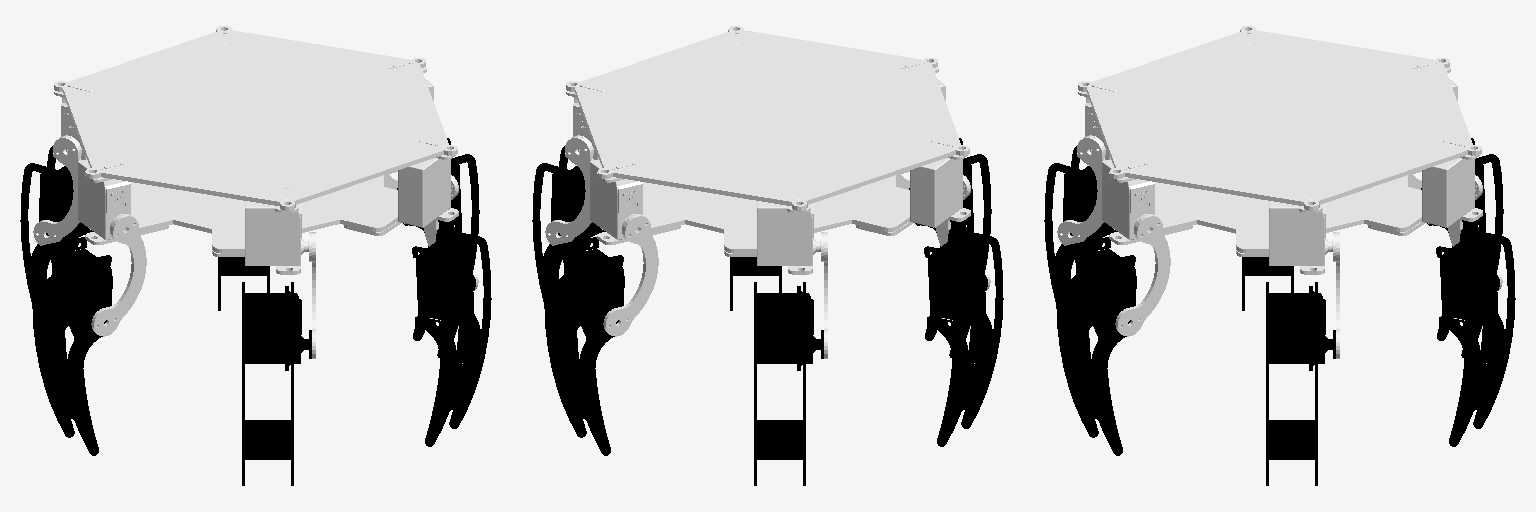
The robot description file, URDF, robot "hexa_wexa":
<?xml version="1.0" encoding="utf-8"?>
<!-- This URDF was automatically created by SolidWorks to URDF Exporter! Originally created by [author] ([email redacted])
     Commit Version: 1.6.0-1-g15f4949  Build Version: 1.6.7594.29634
     For more information, please see http://wiki.ros.org/sw_urdf_exporter -->
<robot
  name="hexa_wexa">
  <link
    name="base_link">
    <inertial>
      <origin
        xyz="-1.11022302462516E-16 8.32667268468867E-16 0.0329215154523213"
        rpy="0 0 0" />
      <mass
        value="2.06099139407896" />
      <inertia
        ixx="0.0101180981973123"
        ixy="-1.4361818168078E-15"
        ixz="1.13727748333106E-19"
        iyy="0.0101180981974174"
        iyz="5.28927273539273E-19"
        izz="0.0197053897177076" />
    </inertial>
    <visual>
      <origin
        xyz="0 0 0"
        rpy="0 0 0" />
      <geometry>
        <mesh
          filename="package://hexa_wexa/meshes/base_link.STL" />
      </geometry>
      <material
        name="">
        <color
          rgba="1 1 1 1" />
      </material>
    </visual>
    <collision>
      <origin
        xyz="0 0 0"
        rpy="0 0 0" />
      <geometry>
        <mesh
          filename="package://hexa_wexa/meshes/base_link.STL" />
      </geometry>
    </collision>
  </link>
  <link
    name="link_1">
    <inertial>
      <origin
        xyz="0 -0.000390541423954061 -0.0520431996238184"
        rpy="0 0 0" />
      <mass
        value="0.0161867713531685" />
      <inertia
        ixx="2.90017231403271E-05"
        ixy="6.7762635780344E-21"
        ixz="-8.50537169564026E-21"
        iyy="2.51034835558057E-05"
        iyz="-5.13859201514917E-06"
        izz="3.96568446515958E-06" />
    </inertial>
    <visual>
      <origin
        xyz="0 0 0"
        rpy="0 0 0" />
      <geometry>
        <mesh
          filename="package://hexa_wexa/meshes/link_1.STL" />
      </geometry>
      <material
        name="">
        <color
          rgba="1 1 1 1" />
      </material>
    </visual>
    <collision>
      <origin
        xyz="0 0 0"
        rpy="0 0 0" />
      <geometry>
        <mesh
          filename="package://hexa_wexa/meshes/link_1.STL" />
      </geometry>
    </collision>
  </link>
  <joint
    name="femur1"
    type="revolute">
    <origin
      xyz="0.14515 -0.13347 0.01"
      rpy="0 0 0.5236" />
    <parent
      link="base_link" />
    <child
      link="link_1" />
    <axis
      xyz="1 0 0" />
    <limit
      lower="-1.5708"
      upper="1.5708"
      effort="100"
      velocity="50" />
  </joint>
  <link
    name="link_1.1">
    <inertial>
      <origin
        xyz="-0.0426285870362159 -0.00501916657630452 -0.00729447440820258"
        rpy="0 0 0" />
      <mass
        value="0.172077268178404" />
      <inertia
        ixx="0.000231425971647549"
        ixy="-4.49143962276963E-10"
        ixz="1.89213210170286E-06"
        iyy="0.000275463997514187"
        iyz="1.27642229960103E-05"
        izz="7.5723265385277E-05" />
    </inertial>
    <visual>
      <origin
        xyz="0 0 0"
        rpy="0 0 0" />
      <geometry>
        <mesh
          filename="package://hexa_wexa/meshes/link_1.1.STL" />
      </geometry>
      <material
        name="">
        <color
          rgba="0 0 0 1" />
      </material>
    </visual>
    <collision>
      <origin
        xyz="0 0 0"
        rpy="0 0 0" />
      <geometry>
        <mesh
          filename="package://hexa_wexa/meshes/link_1.1.STL" />
      </geometry>
    </collision>
  </link>
  <joint
    name="leg1"
    type="revolute">
    <origin
      xyz="0 -0.02283 -0.099002"
      rpy="-0.046051 0 0" />
    <parent
      link="link_1" />
    <child
      link="link_1.1" />
    <axis
      xyz="1 0 0" />
    <limit
      lower="-1.5708"
      upper="1.5708"
      effort="100"
      velocity="50" />
  </joint>
  <link
    name="link_2">
    <inertial>
      <origin
        xyz="-8.32667268468867E-17 -0.000390541423954061 -0.0520431996238183"
        rpy="0 0 0" />
      <mass
        value="0.0161867713531686" />
      <inertia
        ixx="2.90017231403271E-05"
        ixy="1.85801300952691E-20"
        ixz="2.02679642762048E-21"
        iyy="2.51034835558058E-05"
        iyz="-5.13859201514918E-06"
        izz="3.9656844651596E-06" />
    </inertial>
    <visual>
      <origin
        xyz="0 0 0"
        rpy="0 0 0" />
      <geometry>
        <mesh
          filename="package://hexa_wexa/meshes/link_2.STL" />
      </geometry>
      <material
        name="">
        <color
          rgba="1 1 1 1" />
      </material>
    </visual>
    <collision>
      <origin
        xyz="0 0 0"
        rpy="0 0 0" />
      <geometry>
        <mesh
          filename="package://hexa_wexa/meshes/link_2.STL" />
      </geometry>
    </collision>
  </link>
  <joint
    name="femur2"
    type="revolute">
    <origin
      xyz="0.18816 0.05897 0.01"
      rpy="0 0 1.5708" />
    <parent
      link="base_link" />
    <child
      link="link_2" />
    <axis
      xyz="1 0 0" />
    <limit
      lower="-1.5708"
      upper="1.5708"
      effort="100"
      velocity="50" />
  </joint>
  <link
    name="link_2.2">
    <inertial>
      <origin
        xyz="-0.0426285870058558 -0.00501916661698198 -0.00729447436625907"
        rpy="0 0 0" />
      <mass
        value="0.172077268568037" />
      <inertia
        ixx="0.000231425083797164"
        ixy="-4.48969659915652E-10"
        ixz="1.89213220657379E-06"
        iyy="0.000275463082426943"
        iyz="1.27642153499068E-05"
        izz="7.57233043712846E-05" />
    </inertial>
    <visual>
      <origin
        xyz="0 0 0"
        rpy="0 0 0" />
      <geometry>
        <mesh
          filename="package://hexa_wexa/meshes/link_2.2.STL" />
      </geometry>
      <material
        name="">
        <color
          rgba="0 0 0 1" />
      </material>
    </visual>
    <collision>
      <origin
        xyz="0 0 0"
        rpy="0 0 0" />
      <geometry>
        <mesh
          filename="package://hexa_wexa/meshes/link_2.2.STL" />
      </geometry>
    </collision>
  </link>
  <joint
    name="leg2"
    type="revolute">
    <origin
      xyz="0 -0.02283 -0.099002"
      rpy="-0.046051 0 0" />
    <parent
      link="link_2" />
    <child
      link="link_2.2" />
    <axis
      xyz="1 0 0" />
    <limit
      lower="-1.5708"
      upper="1.5708"
      effort="100"
      velocity="50" />
  </joint>
  <link
    name="link_3">
    <inertial>
      <origin
        xyz="-5.55111512312578E-17 -0.000390541423954074 -0.0520431996238182"
        rpy="0 0 0" />
      <mass
        value="0.0161867713531686" />
      <inertia
        ixx="2.90017231403272E-05"
        ixy="2.79520872593919E-20"
        ixz="1.18265634115863E-20"
        iyy="2.51034835558058E-05"
        iyz="-5.13859201514919E-06"
        izz="3.96568446515959E-06" />
    </inertial>
    <visual>
      <origin
        xyz="0 0 0"
        rpy="0 0 0" />
      <geometry>
        <mesh
          filename="package://hexa_wexa/meshes/link_3.STL" />
      </geometry>
      <material
        name="">
        <color
          rgba="1 1 1 1" />
      </material>
    </visual>
    <collision>
      <origin
        xyz="0 0 0"
        rpy="0 0 0" />
      <geometry>
        <mesh
          filename="package://hexa_wexa/meshes/link_3.STL" />
      </geometry>
    </collision>
  </link>
  <joint
    name="femur3"
    type="revolute">
    <origin
      xyz="0.043011 0.19244 0.01"
      rpy="0 0 2.618" />
    <parent
      link="base_link" />
    <child
      link="link_3" />
    <axis
      xyz="1 0 0" />
    <limit
      lower="-1.5708"
      upper="1.5708"
      effort="100"
      velocity="50" />
  </joint>
  <link
    name="link_3.3">
    <inertial>
      <origin
        xyz="-0.042807342236036 -0.00501916662215592 -0.00615932155635768"
        rpy="0 0 0" />
      <mass
        value="0.172077268091205" />
      <inertia
        ixx="0.00023141657003237"
        ixy="3.38677520311463E-07"
        ixz="-2.24586714486416E-06"
        iyy="0.000275463997357553"
        iyz="1.27597291678561E-05"
        izz="7.57326668898429E-05" />
    </inertial>
    <visual>
      <origin
        xyz="0 0 0"
        rpy="0 0 0" />
      <geometry>
        <mesh
          filename="package://hexa_wexa/meshes/link_3.3.STL" />
      </geometry>
      <material
        name="">
        <color
          rgba="0 0 0 1" />
      </material>
    </visual>
    <collision>
      <origin
        xyz="0 0 0"
        rpy="0 0 0" />
      <geometry>
        <mesh
          filename="package://hexa_wexa/meshes/link_3.3.STL" />
      </geometry>
    </collision>
  </link>
  <joint
    name="leg3"
    type="revolute">
    <origin
      xyz="0 -0.02283 -0.099002"
      rpy="-0.046067 -0.026543 0.0012235" />
    <parent
      link="link_3" />
    <child
      link="link_3.3" />
    <axis
      xyz="1 0 0" />
    <limit
      lower="-1.5708"
      upper="1.5708"
      effort="100"
      velocity="50" />
  </joint>
  <link
    name="link_4">
    <inertial>
      <origin
        xyz="-6.93889390390723E-18 -0.000390541423954116 -0.0520431996238183"
        rpy="0 0 0" />
      <mass
        value="0.0161867713531686" />
      <inertia
        ixx="2.90017231403271E-05"
        ixy="4.74338450462408E-20"
        ixz="6.26552831118306E-20"
        iyy="2.51034835558057E-05"
        iyz="-5.13859201514918E-06"
        izz="3.96568446515959E-06" />
    </inertial>
    <visual>
      <origin
        xyz="0 0 0"
        rpy="0 0 0" />
      <geometry>
        <mesh
          filename="package://hexa_wexa/meshes/link_4.STL" />
      </geometry>
      <material
        name="">
        <color
          rgba="1 1 1 1" />
      </material>
    </visual>
    <collision>
      <origin
        xyz="0 0 0"
        rpy="0 0 0" />
      <geometry>
        <mesh
          filename="package://hexa_wexa/meshes/link_4.STL" />
      </geometry>
    </collision>
  </link>
  <joint
    name="femur4"
    type="revolute">
    <origin
      xyz="-0.14515 0.13347 0.01"
      rpy="0 0 -2.618" />
    <parent
      link="base_link" />
    <child
      link="link_4" />
    <axis
      xyz="1 0 0" />
    <limit
      lower="-1.5708"
      upper="1.5708"
      effort="100"
      velocity="50" />
  </joint>
  <link
    name="link_4.4">
    <inertial>
      <origin
        xyz="-0.0424197356336695 -0.00501916657630445 -0.00842447733487048"
        rpy="0 0 0" />
      <mass
        value="0.172077268178403" />
      <inertia
        ixx="0.000231215556596787"
        ixy="-3.39575333485197E-07"
        ixz="6.02478897876616E-06"
        iyy="0.000275463997514186"
        iyz="1.27597052272569E-05"
        izz="7.59336804360387E-05" />
    </inertial>
    <visual>
      <origin
        xyz="0 0 0"
        rpy="0 0 0" />
      <geometry>
        <mesh
          filename="package://hexa_wexa/meshes/link_4.4.STL" />
      </geometry>
      <material
        name="">
        <color
          rgba="0 0 0 1" />
      </material>
    </visual>
    <collision>
      <origin
        xyz="0 0 0"
        rpy="0 0 0" />
      <geometry>
        <mesh
          filename="package://hexa_wexa/meshes/link_4.4.STL" />
      </geometry>
    </collision>
  </link>
  <joint
    name="leg4"
    type="revolute">
    <origin
      xyz="0 -0.02283 -0.099002"
      rpy="-0.046067 0.026543 -0.0012235" />
    <parent
      link="link_4" />
    <child
      link="link_4.4" />
    <axis
      xyz="1 0 0" />
    <limit
      lower="-1.5708"
      upper="1.5708"
      effort="100"
      velocity="50" />
  </joint>
  <link
    name="link_5">
    <inertial>
      <origin
        xyz="-5.55111512312578E-17 -0.000390541423954144 -0.0520431996238182"
        rpy="0 0 0" />
      <mass
        value="0.0161867713531685" />
      <inertia
        ixx="2.90017231403272E-05"
        ixy="-6.20197374025219E-21"
        ixz="-1.32695616895557E-20"
        iyy="2.51034835558058E-05"
        iyz="-5.13859201514918E-06"
        izz="3.96568446515958E-06" />
    </inertial>
    <visual>
      <origin
        xyz="0 0 0"
        rpy="0 0 0" />
      <geometry>
        <mesh
          filename="package://hexa_wexa/meshes/link_5.STL" />
      </geometry>
      <material
        name="">
        <color
          rgba="1 1 1 1" />
      </material>
    </visual>
    <collision>
      <origin
        xyz="0 0 0"
        rpy="0 0 0" />
      <geometry>
        <mesh
          filename="package://hexa_wexa/meshes/link_5.STL" />
      </geometry>
    </collision>
  </link>
  <joint
    name="femur5"
    type="revolute">
    <origin
      xyz="-0.18816 -0.05897 0.01"
      rpy="0 0 -1.5708" />
    <parent
      link="base_link" />
    <child
      link="link_5" />
    <axis
      xyz="1 0 0" />
    <limit
      lower="-1.5708"
      upper="1.5708"
      effort="100"
      velocity="50" />
  </joint>
  <link
    name="link_5.5">
    <inertial>
      <origin
        xyz="-0.0426285870058558 -0.00501916661698201 -0.00729447436625913"
        rpy="0 0 0" />
      <mass
        value="0.172077268568037" />
      <inertia
        ixx="0.000231425083797165"
        ixy="-4.48969659886024E-10"
        ixz="1.89213220657372E-06"
        iyy="0.000275463082426944"
        iyz="1.2764215349907E-05"
        izz="7.57233043712848E-05" />
    </inertial>
    <visual>
      <origin
        xyz="0 0 0"
        rpy="0 0 0" />
      <geometry>
        <mesh
          filename="package://hexa_wexa/meshes/link_5.5.STL" />
      </geometry>
      <material
        name="">
        <color
          rgba="0 0 0 1" />
      </material>
    </visual>
    <collision>
      <origin
        xyz="0 0 0"
        rpy="0 0 0" />
      <geometry>
        <mesh
          filename="package://hexa_wexa/meshes/link_5.5.STL" />
      </geometry>
    </collision>
  </link>
  <joint
    name="leg5"
    type="revolute">
    <origin
      xyz="0 -0.02283 -0.099002"
      rpy="-0.046051 0 0" />
    <parent
      link="link_5" />
    <child
      link="link_5.5" />
    <axis
      xyz="1 0 0" />
    <limit
      lower="-1.5708"
      upper="1.5708"
      effort="100"
      velocity="50" />
  </joint>
  <link
    name="link_6">
    <inertial>
      <origin
        xyz="-5.55111512312578E-17 -0.000390541423954061 -0.0520431996238183"
        rpy="0 0 0" />
      <mass
        value="0.0161867713531686" />
      <inertia
        ixx="2.90017231403271E-05"
        ixy="-5.0821976835258E-21"
        ixz="-2.98382166343931E-20"
        iyy="2.51034835558057E-05"
        iyz="-5.13859201514916E-06"
        izz="3.96568446515959E-06" />
    </inertial>
    <visual>
      <origin
        xyz="0 0 0"
        rpy="0 0 0" />
      <geometry>
        <mesh
          filename="package://hexa_wexa/meshes/link_6.STL" />
      </geometry>
      <material
        name="">
        <color
          rgba="1 1 1 1" />
      </material>
    </visual>
    <collision>
      <origin
        xyz="0 0 0"
        rpy="0 0 0" />
      <geometry>
        <mesh
          filename="package://hexa_wexa/meshes/link_6.STL" />
      </geometry>
    </collision>
  </link>
  <joint
    name="femur6"
    type="revolute">
    <origin
      xyz="-0.043011 -0.19244 0.01"
      rpy="0 0 -0.5236" />
    <parent
      link="base_link" />
    <child
      link="link_6" />
    <axis
      xyz="1 0 0" />
    <limit
      lower="-1.5708"
      upper="1.5708"
      effort="100"
      velocity="50" />
  </joint>
  <link
    name="link_6.6">
    <inertial>
      <origin
        xyz="-0.0426285870484895 -0.00501916662215596 -0.00729447445653715"
        rpy="0 0 0" />
      <mass
        value="0.172077268091205" />
      <inertia
        ixx="0.000231425971559307"
        ixy="-4.48988344814688E-10"
        ixz="1.8921322455992E-06"
        iyy="0.000275463997357554"
        iyz="1.27642230746021E-05"
        izz="7.57232653629073E-05" />
    </inertial>
    <visual>
      <origin
        xyz="0 0 0"
        rpy="0 0 0" />
      <geometry>
        <mesh
          filename="package://hexa_wexa/meshes/link_6.6.STL" />
      </geometry>
      <material
        name="">
        <color
          rgba="0 0 0 1" />
      </material>
    </visual>
    <collision>
      <origin
        xyz="0 0 0"
        rpy="0 0 0" />
      <geometry>
        <mesh
          filename="package://hexa_wexa/meshes/link_6.6.STL" />
      </geometry>
    </collision>
  </link>
  <joint
    name="leg6"
    type="revolute">
    <origin
      xyz="0 -0.02283 -0.099002"
      rpy="-0.046051 0 0" />
    <parent
      link="link_6" />
    <child
      link="link_6.6" />
    <axis
      xyz="1 0 0" />
    <limit
      lower="-1.5708"
      upper="1.5708"
      effort="100"
      velocity="50" />
  </joint>

  <gazebo>
    <plugin name="gazebo_ros_control" filename="libgazebo_ros_control.so">
      <robotNamespace>/hexa_wexa</robotNamespace>
      <robotSimType>gazebo_ros_control/DefaultRobotHWSim</robotSimType>
    </plugin>
  </gazebo>

  <transmission name="leg1_tran">
    <type>transmission_interface/SimpleTransmission</type>
    <joint name="leg1">
      <hardwareInterface>hardware_interface/EffortJointInterface</hardwareInterface>
    </joint>
    <actuator name="leg1_actr">
      <hardwareInterface>hardware_interface/EffortJointInterface</hardwareInterface>
      <mechanicalReduction>1</mechanicalReduction>
    </actuator>
  </transmission>
  <transmission name="leg2_tran">
    <type>transmission_interface/SimpleTransmission</type>
    <joint name="leg2">
      <hardwareInterface>hardware_interface/EffortJointInterface</hardwareInterface>
    </joint>
    <actuator name="leg2_actr">
      <hardwareInterface>hardware_interface/EffortJointInterface</hardwareInterface>
      <mechanicalReduction>1</mechanicalReduction>
    </actuator>
  </transmission>
  <transmission name="leg3_tran">
    <type>transmission_interface/SimpleTransmission</type>
    <joint name="leg3">
      <hardwareInterface>hardware_interface/EffortJointInterface</hardwareInterface>
    </joint>
    <actuator name="leg3_actr">
      <hardwareInterface>hardware_interface/EffortJointInterface</hardwareInterface>
      <mechanicalReduction>1</mechanicalReduction>
    </actuator>
  </transmission>
  <transmission name="leg4_tran">
    <type>transmission_interface/SimpleTransmission</type>
    <joint name="leg4">
      <hardwareInterface>hardware_interface/EffortJointInterface</hardwareInterface>
    </joint>
    <actuator name="leg4_actr">
      <hardwareInterface>hardware_interface/EffortJointInterface</hardwareInterface>
      <mechanicalReduction>1</mechanicalReduction>
    </actuator>
  </transmission>
  <transmission name="leg5_tran">
    <type>transmission_interface/SimpleTransmission</type>
    <joint name="leg5">
      <hardwareInterface>hardware_interface/EffortJointInterface</hardwareInterface>
    </joint>
    <actuator name="leg5_actr">
      <hardwareInterface>hardware_interface/EffortJointInterface</hardwareInterface>
      <mechanicalReduction>1</mechanicalReduction>
    </actuator>
  </transmission>
  <transmission name="leg6_tran">
    <type>transmission_interface/SimpleTransmission</type>
    <joint name="leg6">
      <hardwareInterface>hardware_interface/EffortJointInterface</hardwareInterface>
    </joint>
    <actuator name="leg6_actr">
      <hardwareInterface>hardware_interface/EffortJointInterface</hardwareInterface>
      <mechanicalReduction>1</mechanicalReduction>
    </actuator>
  </transmission>
  <transmission name="leg1_tran">
    <type>transmission_interface/SimpleTransmission</type>
    <joint name="leg1">
      <hardwareInterface>hardware_interface/EffortJointInterface</hardwareInterface>
    </joint>
    <actuator name="femur1_actr">
      <hardwareInterface>hardware_interface/EffortJointInterface</hardwareInterface>
      <mechanicalReduction>1</mechanicalReduction>
    </actuator>
  </transmission>
  <transmission name="femur1_tran">
    <type>transmission_interface/SimpleTransmission</type>
    <joint name="femur1">
      <hardwareInterface>hardware_interface/EffortJointInterface</hardwareInterface>
    </joint>
    <actuator name="femur1_actr">
      <hardwareInterface>hardware_interface/EffortJointInterface</hardwareInterface>
      <mechanicalReduction>1</mechanicalReduction>
    </actuator>
  </transmission>
  <transmission name="femur2_tran">
    <type>transmission_interface/SimpleTransmission</type>
    <joint name="femur2">
      <hardwareInterface>hardware_interface/EffortJointInterface</hardwareInterface>
    </joint>
    <actuator name="femur2_actr">
      <hardwareInterface>hardware_interface/EffortJointInterface</hardwareInterface>
      <mechanicalReduction>1</mechanicalReduction>
    </actuator>
  </transmission>
  <transmission name="femur3_tran">
    <type>transmission_interface/SimpleTransmission</type>
    <joint name="femur3">
      <hardwareInterface>hardware_interface/EffortJointInterface</hardwareInterface>
    </joint>
    <actuator name="femur3_actr">
      <hardwareInterface>hardware_interface/EffortJointInterface</hardwareInterface>
      <mechanicalReduction>1</mechanicalReduction>
    </actuator>
  </transmission>
  <transmission name="femur4_tran">
    <type>transmission_interface/SimpleTransmission</type>
    <joint name="femur4">
      <hardwareInterface>hardware_interface/EffortJointInterface</hardwareInterface>
    </joint>
    <actuator name="femur4_actr">
      <hardwareInterface>hardware_interface/EffortJointInterface</hardwareInterface>
      <mechanicalReduction>1</mechanicalReduction>
    </actuator>
  </transmission>
  <transmission name="femur5_tran">
    <type>transmission_interface/SimpleTransmission</type>
    <joint name="femur5">
      <hardwareInterface>hardware_interface/EffortJointInterface</hardwareInterface>
    </joint>
    <actuator name="femur5_actr">
      <hardwareInterface>hardware_interface/EffortJointInterface</hardwareInterface>
      <mechanicalReduction>1</mechanicalReduction>
    </actuator>
  </transmission>
  <transmission name="femur6_tran">
    <type>transmission_interface/SimpleTransmission</type>
    <joint name="femur6">
      <hardwareInterface>hardware_interface/EffortJointInterface</hardwareInterface>
    </joint>
    <actuator name="femur6_actr">
      <hardwareInterface>hardware_interface/EffortJointInterface</hardwareInterface>
      <mechanicalReduction>1</mechanicalReduction>
    </actuator>
  </transmission>
</robot>

--- What the picture shows (computed from the rendered views, not written in the file) ---
Views: 3 orthographic renders of the robot side by side, from view 1: azimuth 30°, elevation 25°; view 2: azimuth 150°, elevation 25°; view 3: azimuth 270°, elevation 25°.
Model hexa_wexa with 13 links and 12 joints (12 revolute), rooted at base_link, posed all joints at 0.
Visible links, largest first — view 1: base_link, link_1.1, link_5.5, link_6.6, link_4.4, link_5, link_4, link_2.2, link_3.3; view 2: base_link, link_5.5, link_3.3, link_4.4, link_2.2, link_3, link_2, link_6.6, link_1.1; view 3: base_link, link_3.3, link_1.1, link_2.2, link_6.6, link_1, link_6, link_4.4, link_5.5.
Boxes of the visible links, x1,y1,x2,y2 form: base_link: (53,26,458,274); link_1.1: (412,228,491,446); link_5.5: (32,237,112,455); link_6.6: (242,282,311,485); link_4.4: (20,146,93,337); link_5: (91,214,146,336); link_4: (33,136,81,245); link_2.2: (397,138,479,357); link_3.3: (218,257,269,310); base_link: (565,26,970,274); link_5.5: (924,228,1003,446); link_3.3: (544,237,624,455); link_4.4: (754,282,823,485); link_2.2: (532,146,605,337); link_3: (603,214,658,336); link_2: (545,136,593,245); link_6.6: (909,138,991,357); link_1.1: (730,257,781,310); base_link: (1077,26,1482,274); link_3.3: (1436,228,1515,446); link_1.1: (1056,237,1136,455); link_2.2: (1266,282,1335,485); link_6.6: (1044,146,1117,337); link_1: (1115,214,1170,336); link_6: (1057,136,1105,245); link_4.4: (1421,138,1503,357); link_5.5: (1242,257,1293,310).
Size in the robot's own frame: 0.5085 by 0.4791 by 0.3168 metres.
13 mesh visuals loaded from 13 distinct referenced files (13 binary STL).
